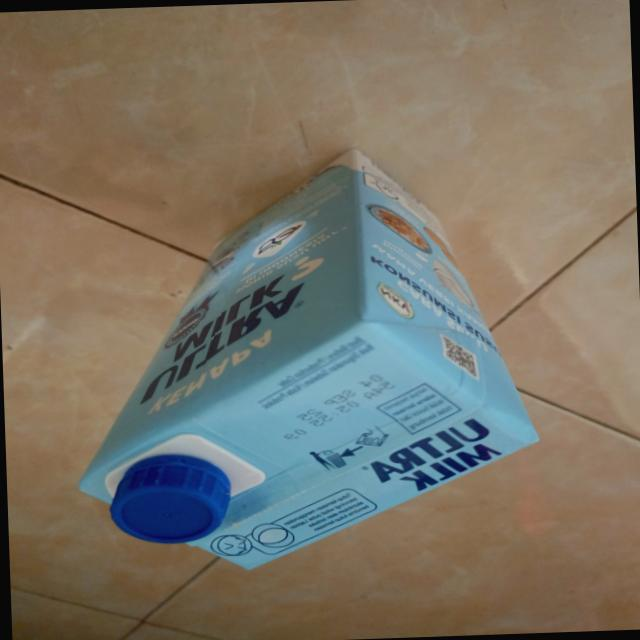ultramilk-full-cream: (61, 135, 546, 581)
